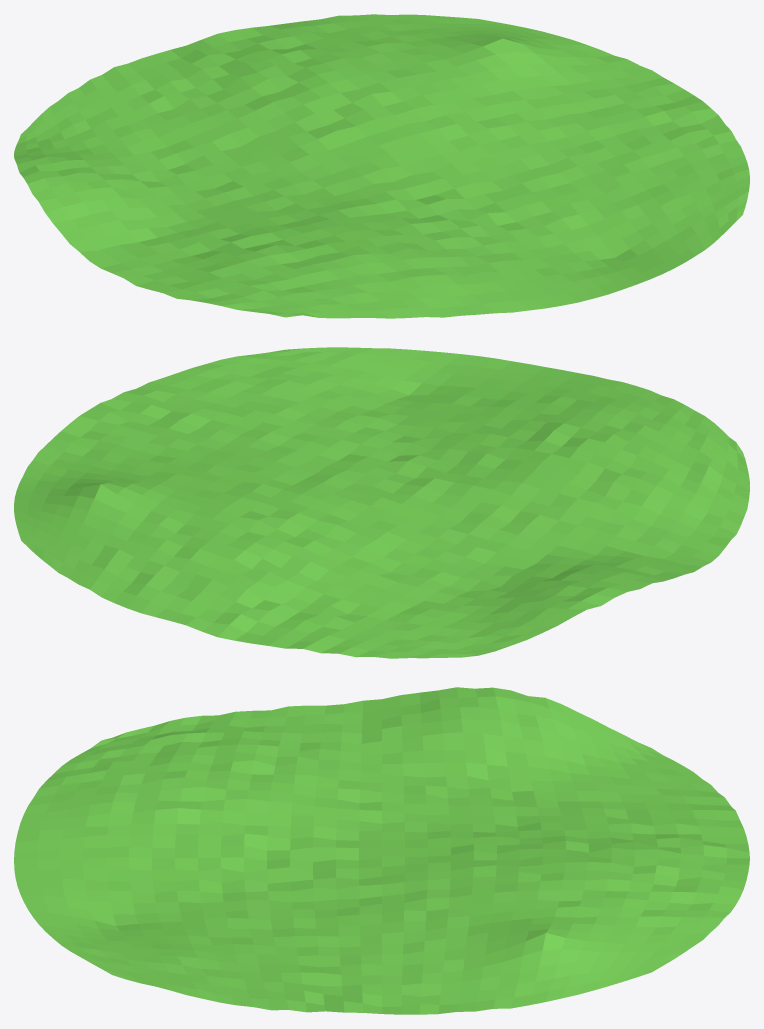
File: Low Poly Sculpted Terrain.fbx
3 renders of one model, top to bottom at view 1: azimuth 30°, elevation 25°; view 2: azimuth 150°, elevation 25°; view 3: azimuth 270°, elevation 25°, orthographic. The views are drawn at different scales.
Parts seen in each view (by area): view 1: LowPoly_Terrain; view 2: LowPoly_Terrain; view 3: LowPoly_Terrain.
Part boxes in pixels (box(x1,y1,x2,y2)): LowPoly_Terrain: box(14, 14, 749, 318); LowPoly_Terrain: box(14, 347, 749, 658); LowPoly_Terrain: box(14, 687, 749, 1014).
Bounding box in the file's own units: 1192 × 75.27 × 1192.
